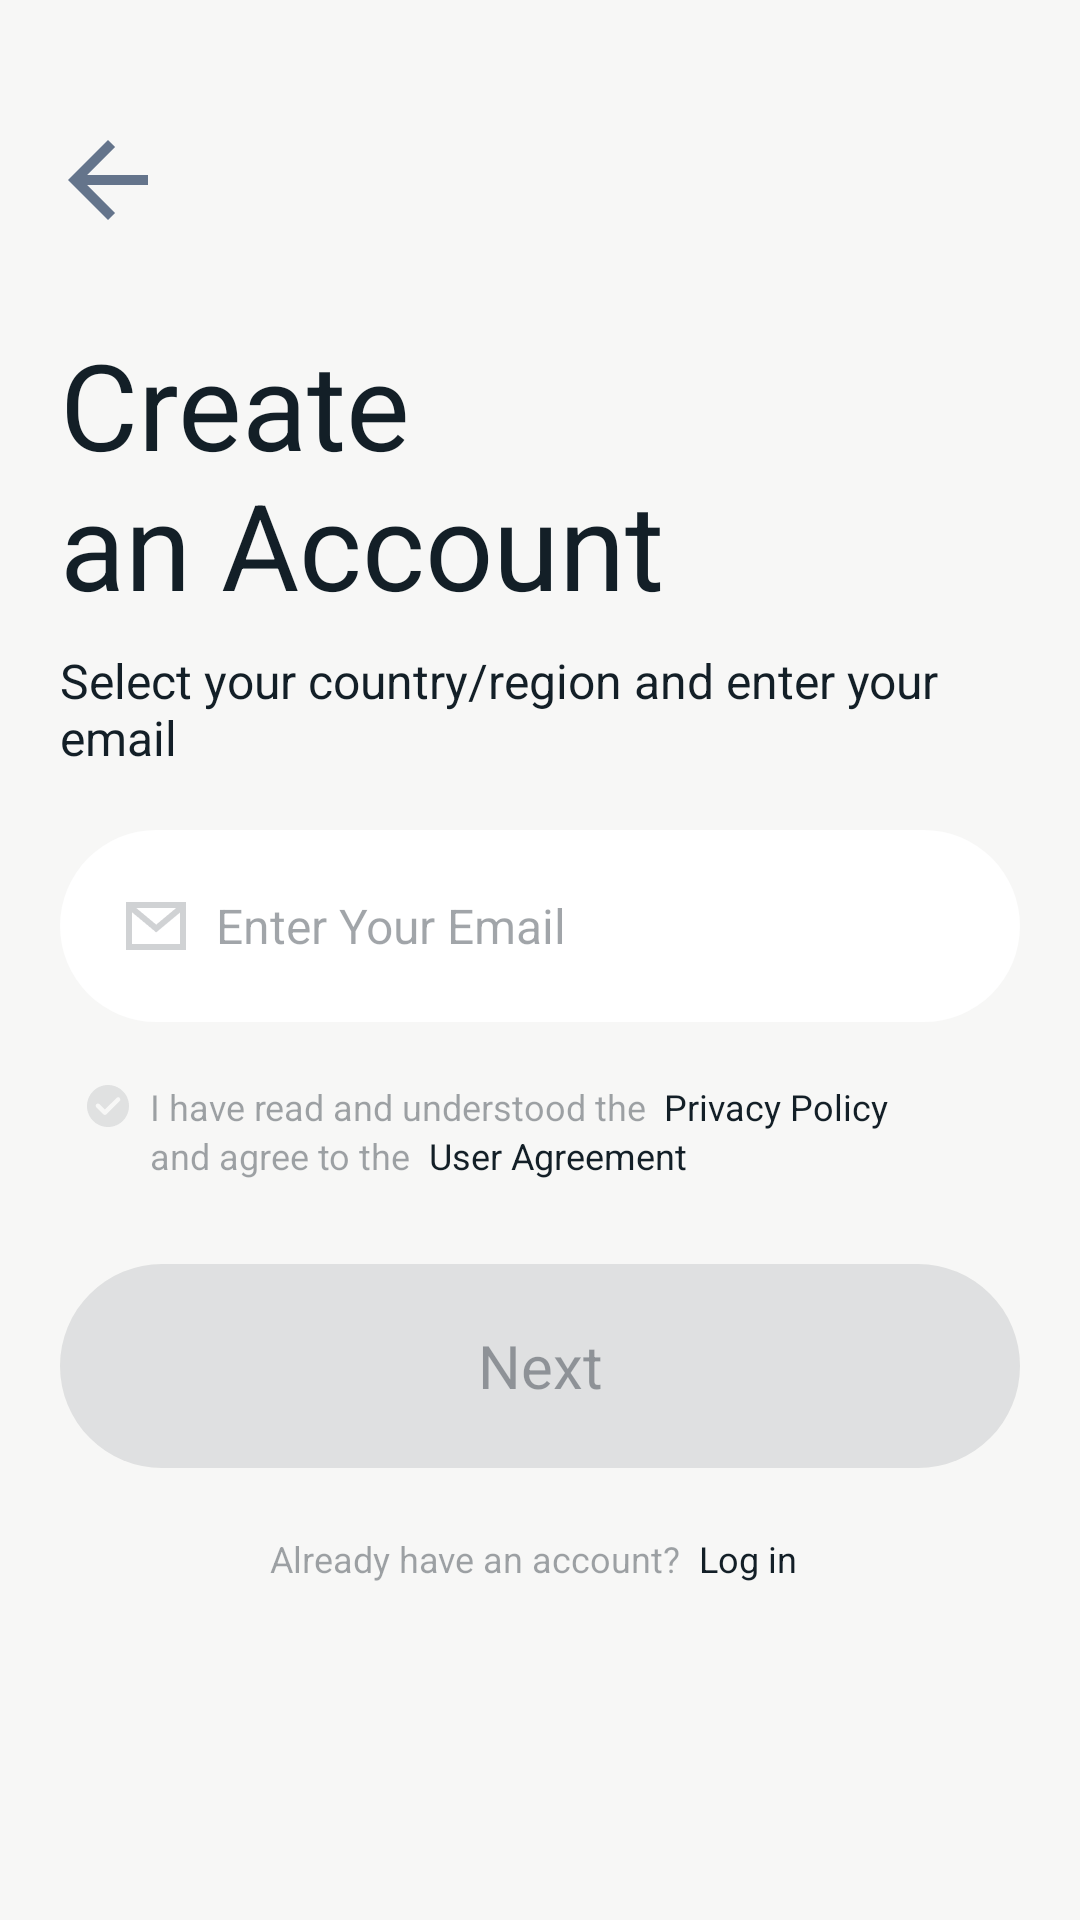

Where icons sit on this 1080w x 1920h app screen, as rect(x1, y1, x2, y2):
arrow back: rect(68, 140, 148, 220)
register home email: rect(126, 902, 186, 950)
